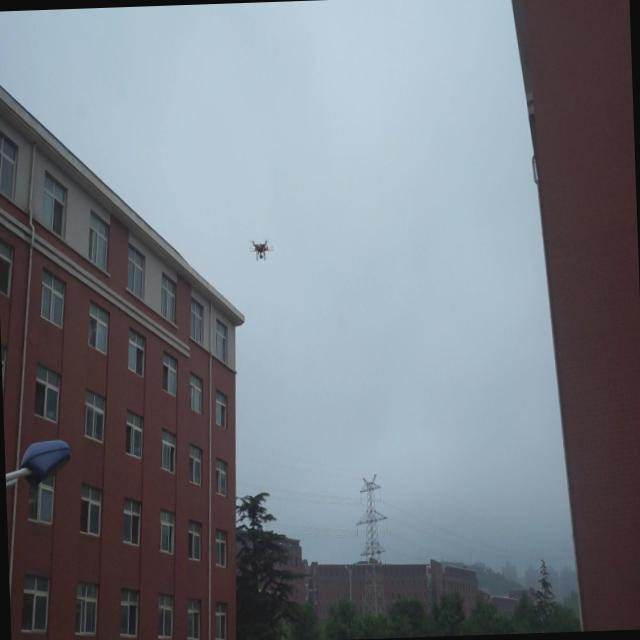drone: (245, 233, 274, 265)
